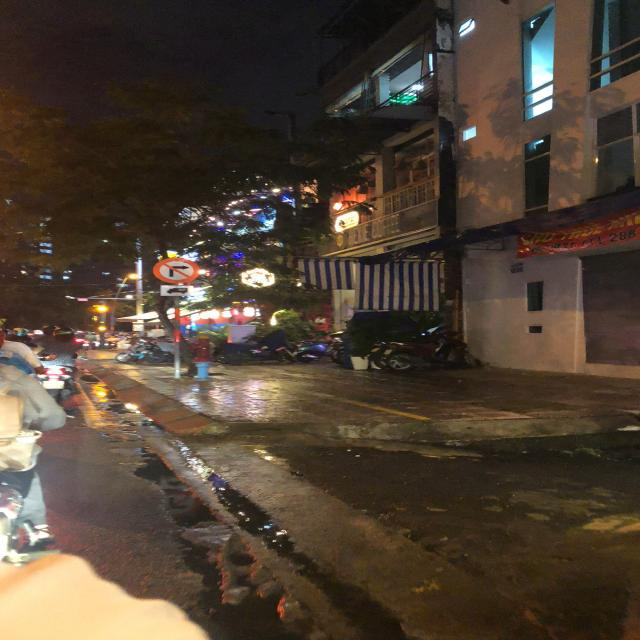Bien bao cam re phai: (151, 254, 201, 286)
